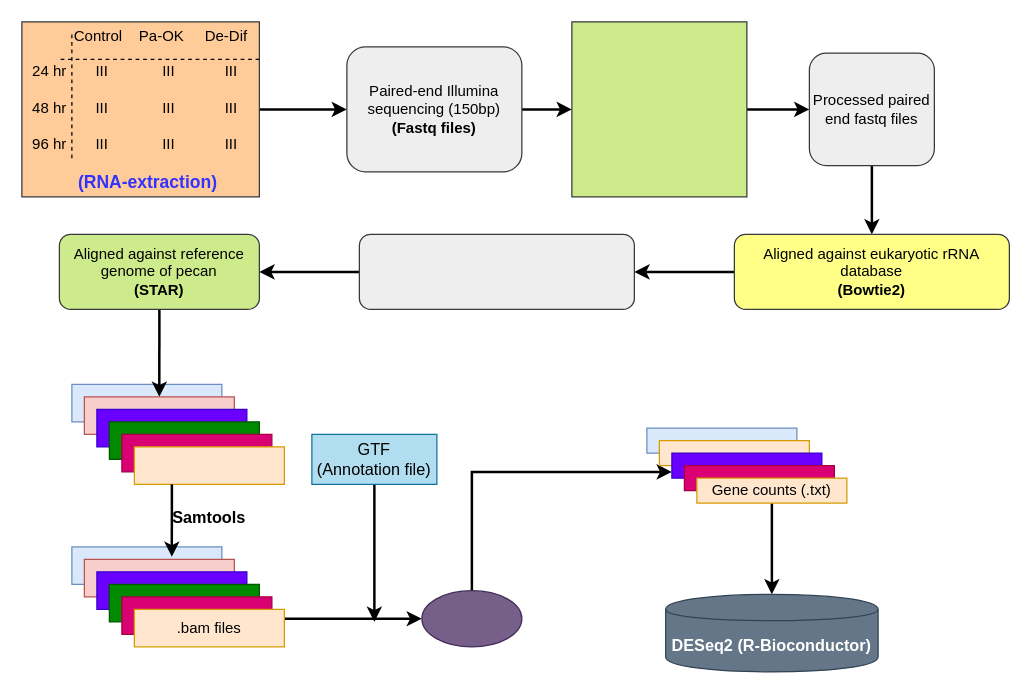
Image size: 1031x694. Some labels were removed from this diagram. The centre of each missing label's shape, as x and y in pixels:
".sam files" belongs at (x=208, y=465).
"1. FastQC (Quality check) 2. Trimmomatic (Trimming/Quality filter)" belongs at (x=659, y=109).
"Extract unaligned paired-end fastq files" belongs at (x=496, y=271).
"HTseq" belongs at (x=471, y=618).
